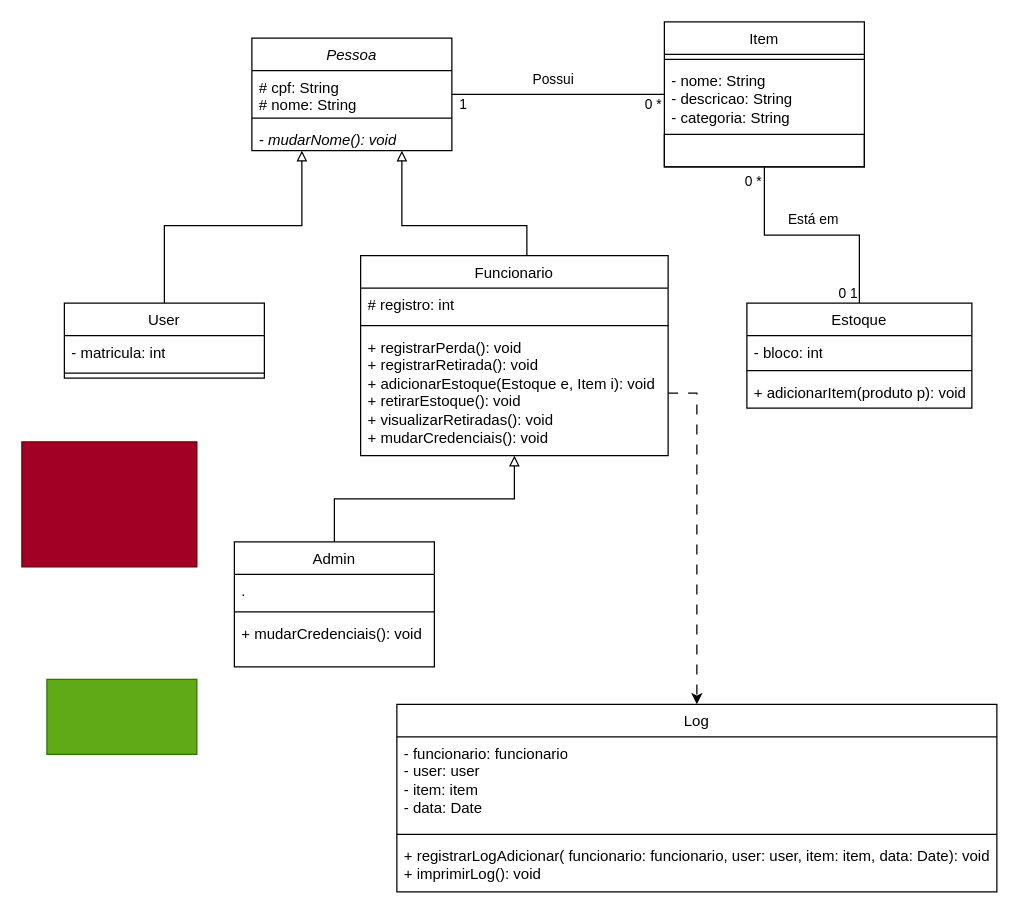
The diagram is 1019 pixels wide and 918 high, and some of its shapes have lost their labels. The centre of each missing label's shape, as x and y in pixels:
APENAS ADM MUDA CPF ( mudarCredenciais): [121,716]
METODO POLIMORFICO excluirObjeto: funcinario "erro" admin "ok": [109,504]
